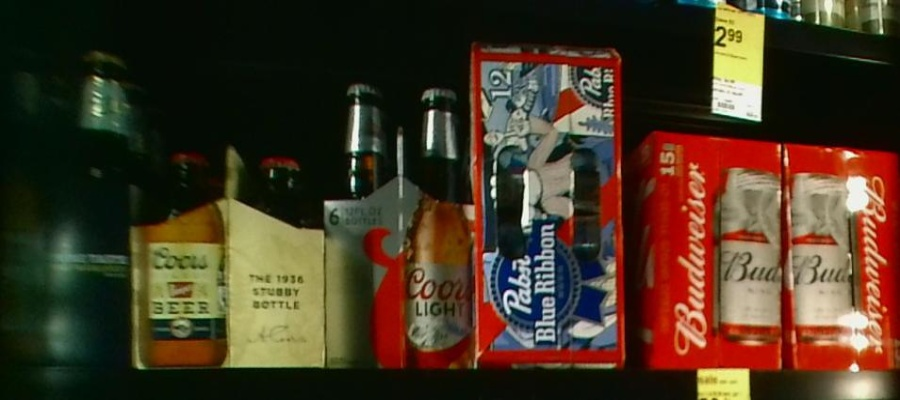bottle: (470, 44, 626, 370), (322, 83, 473, 368), (142, 144, 325, 366), (628, 132, 790, 368), (51, 52, 137, 366), (788, 139, 900, 372), (1, 38, 43, 366)
